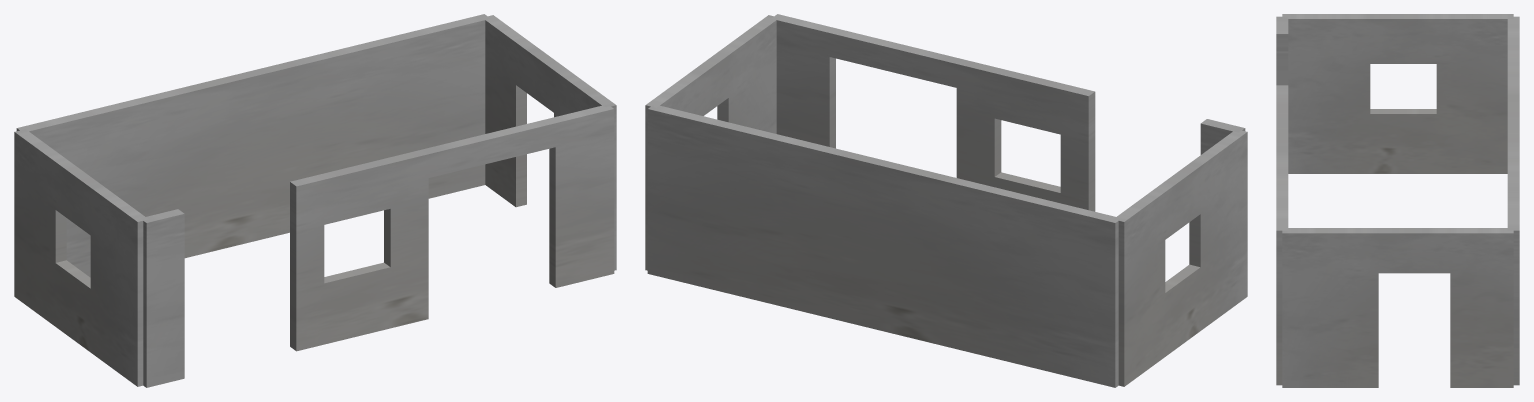
The model's file is BW_Blacksmith01_Plaster.fbx.
3 renders of one model, left to right at view 1: azimuth 30°, elevation 25°; view 2: azimuth 150°, elevation 25°; view 3: azimuth 270°, elevation 25°, orthographic. The views are drawn at different scales.
Parts seen in each view (by area): view 1: BW_Blacksmith01_Plaster; view 2: BW_Blacksmith01_Plaster; view 3: BW_Blacksmith01_Plaster.
Boxes of the visible parts, bbox=[...] form: BW_Blacksmith01_Plaster: bbox=[14, 14, 616, 387]; BW_Blacksmith01_Plaster: bbox=[645, 14, 1247, 387]; BW_Blacksmith01_Plaster: bbox=[1276, 14, 1519, 387].
Size of the model in its own units: 9.42 by 3.1 by 4.42.
